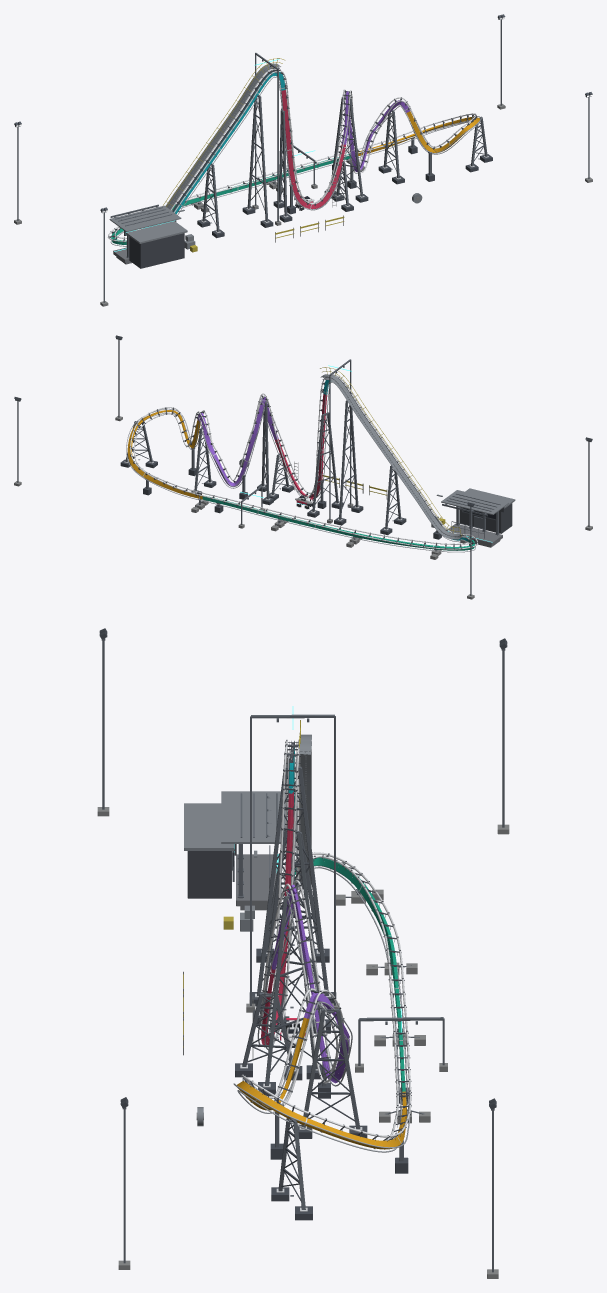
Rendered from apex_coaster.glb.
3 views of the same model, one above another, from view 1: azimuth 30°, elevation 25°; view 2: azimuth 150°, elevation 25°; view 3: azimuth 270°, elevation 25° (orthographic). The views are drawn at different scales.
Visible parts, largest first — view 1: Support_Towers, Station_Platform, Track_Phase4_AirtimeHill, Track_Phase2_ZeroBreathDrop, Ground_Props, Track_Phase3_InversionLoop, Track_Phase1_SlowClimb, Track_Phase5_BrakeRun, Lift_Catwalk, Sensor_Gantries, Chain_Lift; view 2: Support_Towers, Station_Platform, Track_Phase5_BrakeRun, Lift_Catwalk, Track_Phase4_AirtimeHill, Track_Phase3_InversionLoop, Ground_Props, Track_Phase2_ZeroBreathDrop, Sensor_Gantries, Track_Phase1_SlowClimb, Return_Run_Supports; view 3: Support_Towers, Station_Platform, Track_Phase4_AirtimeHill, Track_Phase3_InversionLoop, Track_Phase5_BrakeRun, Ground_Props, Track_Phase2_ZeroBreathDrop, Sensor_Gantries, Return_Run_Supports, Track_Phase1_SlowClimb, Lift_Catwalk.
Part boxes in pixels (x1,y1,x2,y2): Support_Towers: (197, 95, 492, 238); Station_Platform: (109, 204, 187, 268); Track_Phase4_AirtimeHill: (347, 106, 481, 159); Track_Phase2_ZeroBreathDrop: (279, 87, 348, 210); Ground_Props: (14, 14, 592, 306); Track_Phase3_InversionLoop: (338, 89, 411, 173); Track_Phase1_SlowClimb: (170, 68, 287, 214); Track_Phase5_BrakeRun: (108, 151, 358, 246); Lift_Catwalk: (163, 58, 285, 209); Sensor_Gantries: (252, 52, 317, 225); Chain_Lift: (172, 70, 283, 211); Support_Towers: (120, 400, 441, 539); Station_Platform: (436, 488, 515, 547); Track_Phase5_BrakeRun: (198, 492, 478, 552); Lift_Catwalk: (320, 367, 462, 539); Track_Phase4_AirtimeHill: (126, 407, 204, 500); Track_Phase3_InversionLoop: (194, 393, 282, 488); Ground_Props: (14, 335, 592, 599); Track_Phase2_ZeroBreathDrop: (273, 391, 328, 500); Sensor_Gantries: (238, 359, 353, 528); Track_Phase1_SlowClimb: (320, 374, 470, 542); Return_Run_Supports: (191, 499, 441, 559); Support_Towers: (235, 766, 409, 1220); Station_Platform: (184, 791, 288, 910); Track_Phase4_AirtimeHill: (233, 1009, 411, 1152); Track_Phase3_InversionLoop: (265, 880, 352, 1086); Track_Phase5_BrakeRun: (295, 852, 411, 1099); Ground_Props: (97, 628, 509, 1278); Track_Phase2_ZeroBreathDrop: (257, 786, 297, 1050); Sensor_Gantries: (246, 706, 447, 1072); Return_Run_Supports: (336, 889, 430, 1123); Track_Phase1_SlowClimb: (282, 739, 300, 890); Lift_Catwalk: (298, 720, 311, 887).
Bounding box in the file's own units: 52.6 × 15.59 × 19.55.
